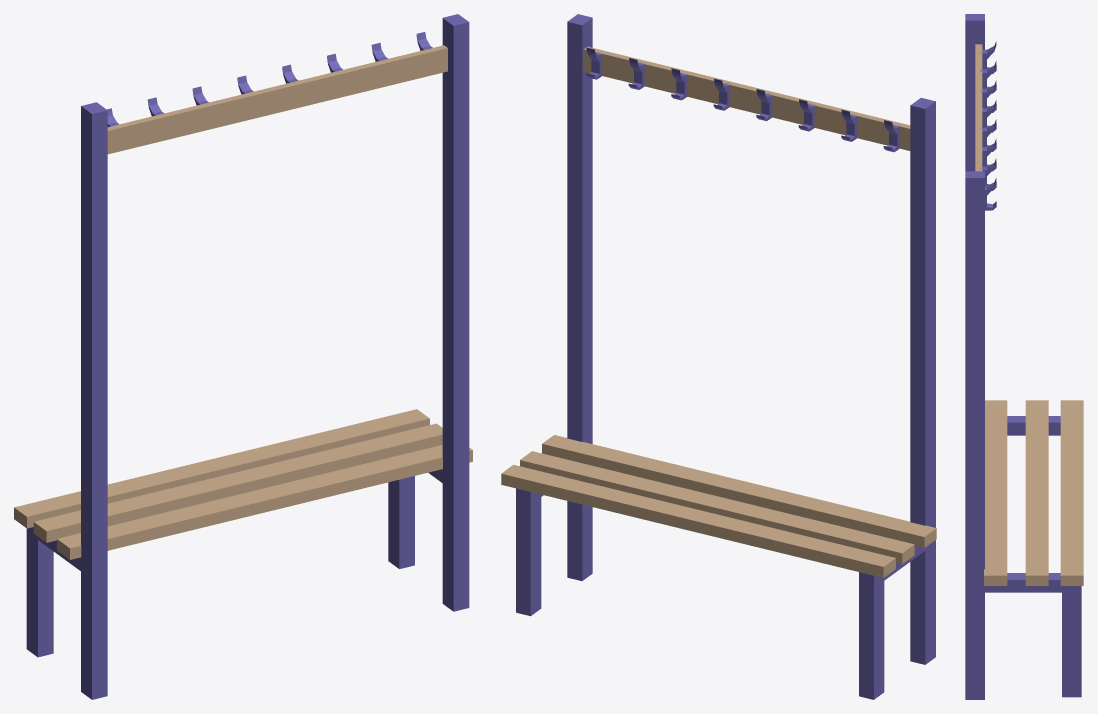
File: Bench.fbx
3 views of the same model, side by side, from view 1: azimuth 30°, elevation 25°; view 2: azimuth 150°, elevation 25°; view 3: azimuth 270°, elevation 25° (orthographic). The views are drawn at different scales.
Parts seen in each view (by area): view 1: Bench, Hanger_Wood, Behch_Wood_3, Behch_Wood_2, Behch_Wood_1; view 2: Bench, Behch_Wood_1, Behch_Wood_3, Behch_Wood_2, Hanger_Wood; view 3: Bench, Behch_Wood_2, Behch_Wood_1, Behch_Wood_3, Hanger_Wood, Hanger_Wood7.
Part boxes in pixels (x1,y1,x2,y2): Bench: [26, 14, 469, 699]; Hanger_Wood: [107, 45, 447, 154]; Behch_Wood_3: [57, 445, 472, 559]; Behch_Wood_2: [33, 423, 442, 542]; Behch_Wood_1: [14, 409, 429, 528]; Bench: [516, 14, 935, 699]; Behch_Wood_1: [501, 464, 895, 577]; Behch_Wood_3: [542, 435, 936, 548]; Behch_Wood_2: [520, 451, 914, 564]; Hanger_Wood: [583, 46, 910, 150]; Bench: [965, 14, 1081, 699]; Behch_Wood_2: [1025, 400, 1048, 585]; Behch_Wood_1: [1060, 400, 1083, 585]; Behch_Wood_3: [984, 400, 1007, 585]; Hanger_Wood: [975, 44, 982, 171]; Hanger_Wood7: [980, 61, 996, 93].
Size of the model in its own units: 1800 by 2500 by 515.
